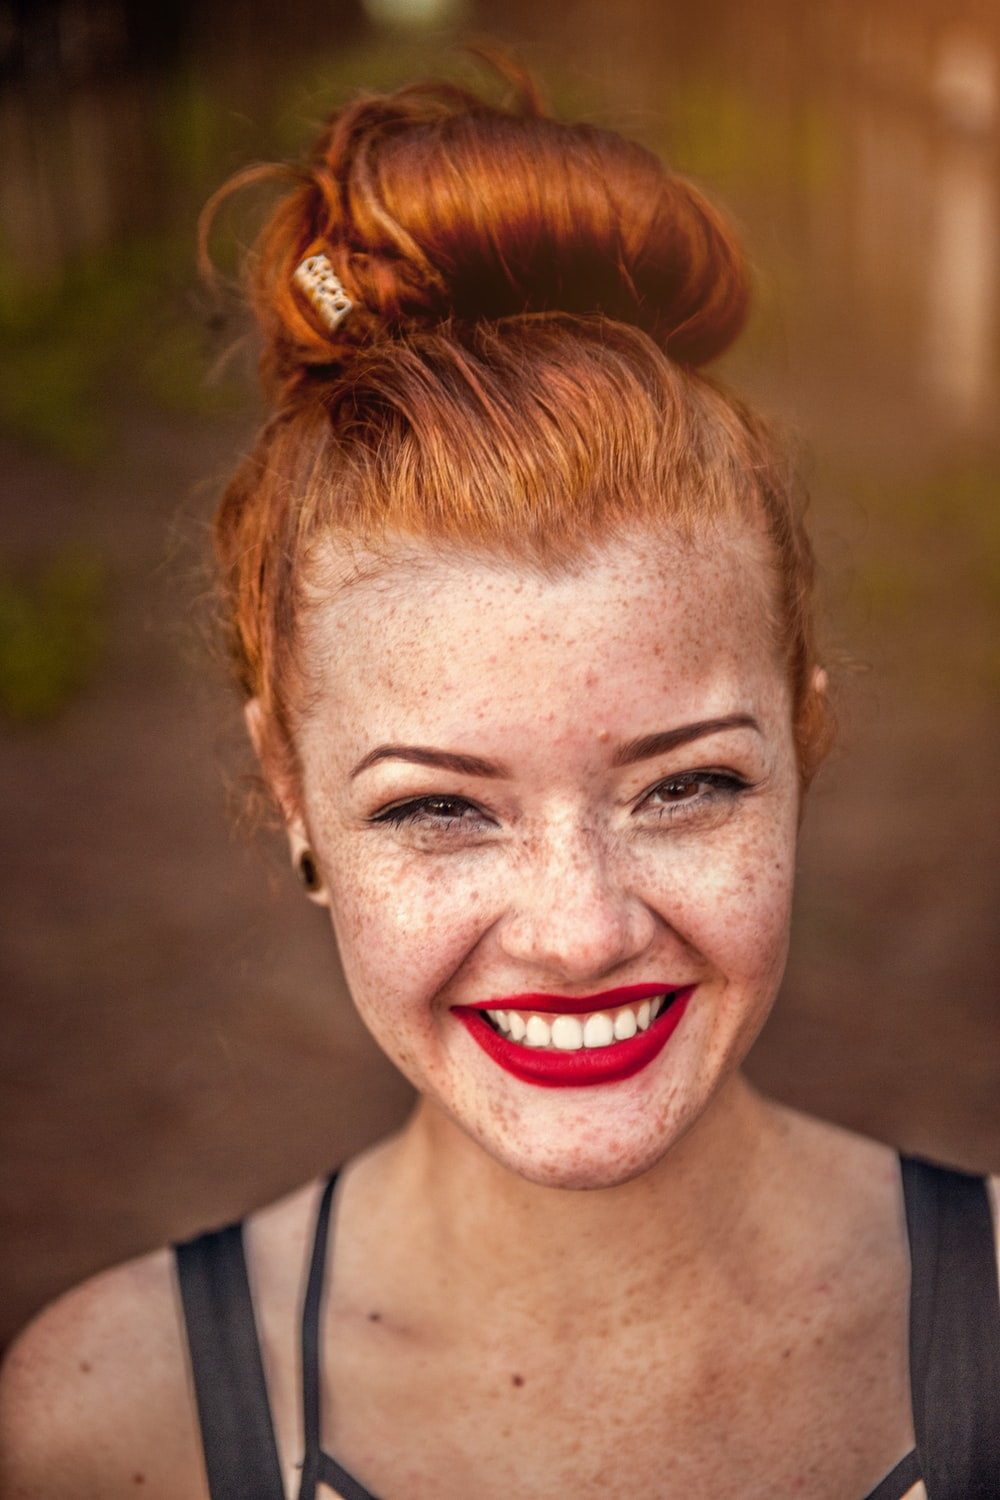bare: (326, 862, 806, 1181)
